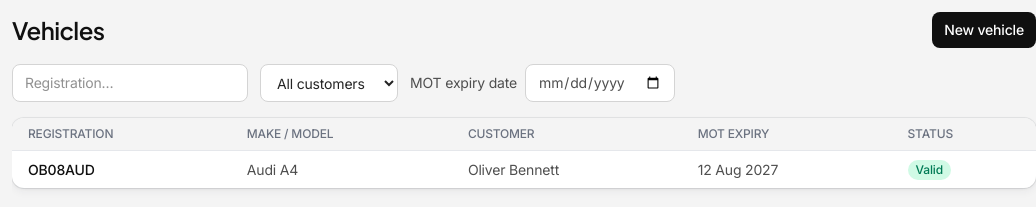
Scenario: VehiclesList — filtering › offers a clear-filters control only once something is filtered
Expected: the table is shown, 12,118 -> 1035,188
Expected: the button "Clear filters" is not shown
Type "OB08" into the search field with placeholder "Registration…" at (130, 83), box 12,64 -> 248,102
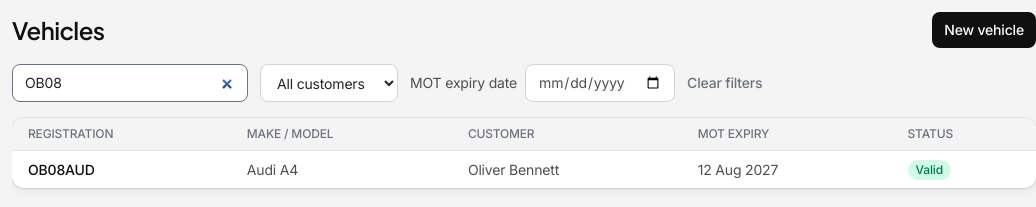
Click the button "Clear filters" at (725, 83), box 687,64 -> 762,102
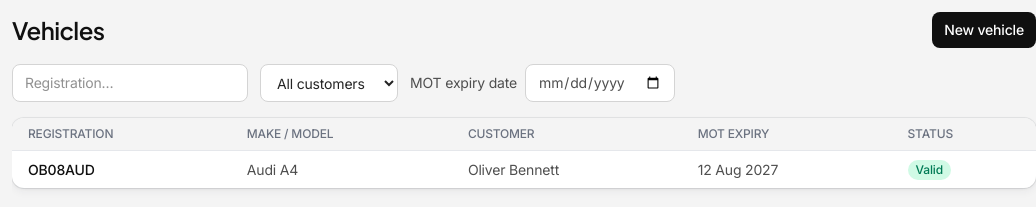
Expected: the search field with placeholder "Registration…" is empty, 12,64 -> 248,102
Expected: the button "Clear filters" is gone
